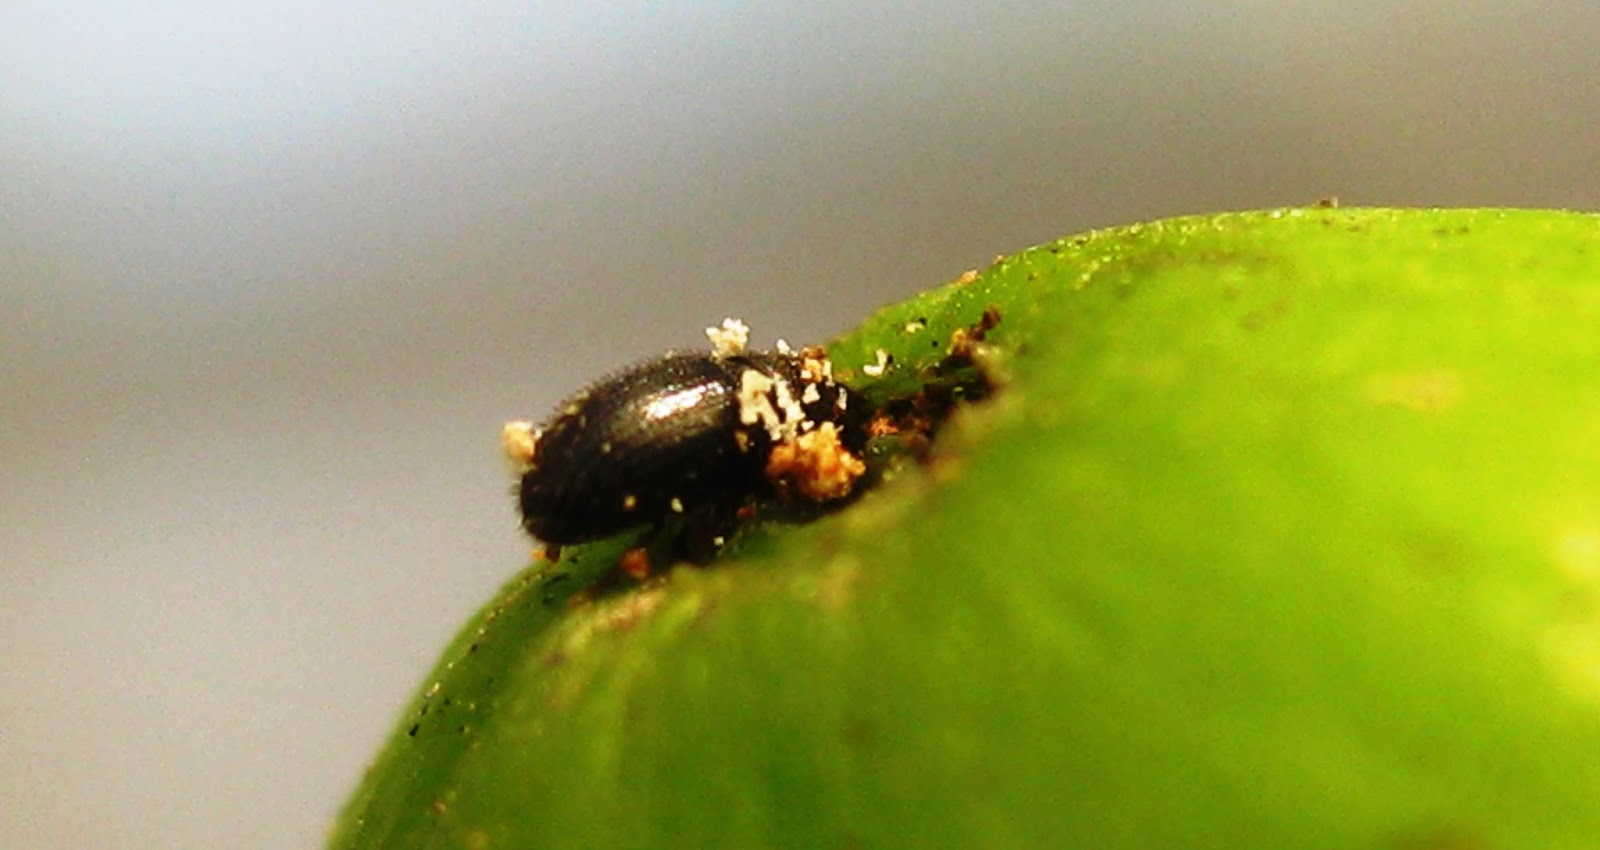broca de cafe: (481, 261, 1418, 745)
